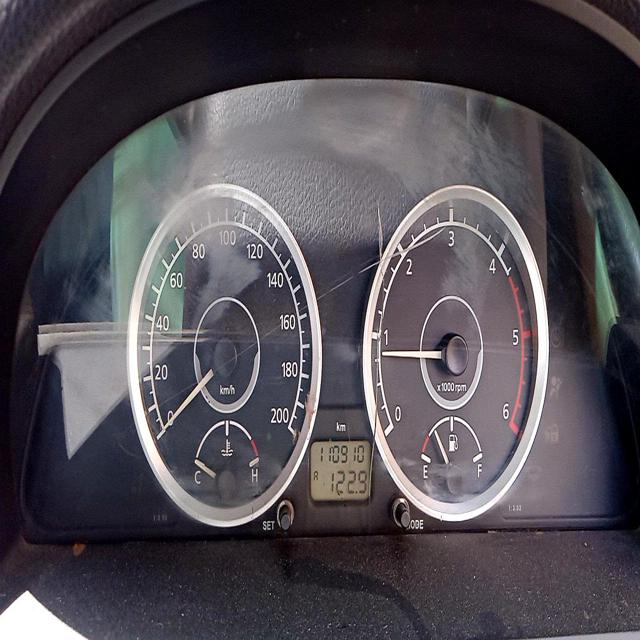odometer: (319, 444, 364, 463)
